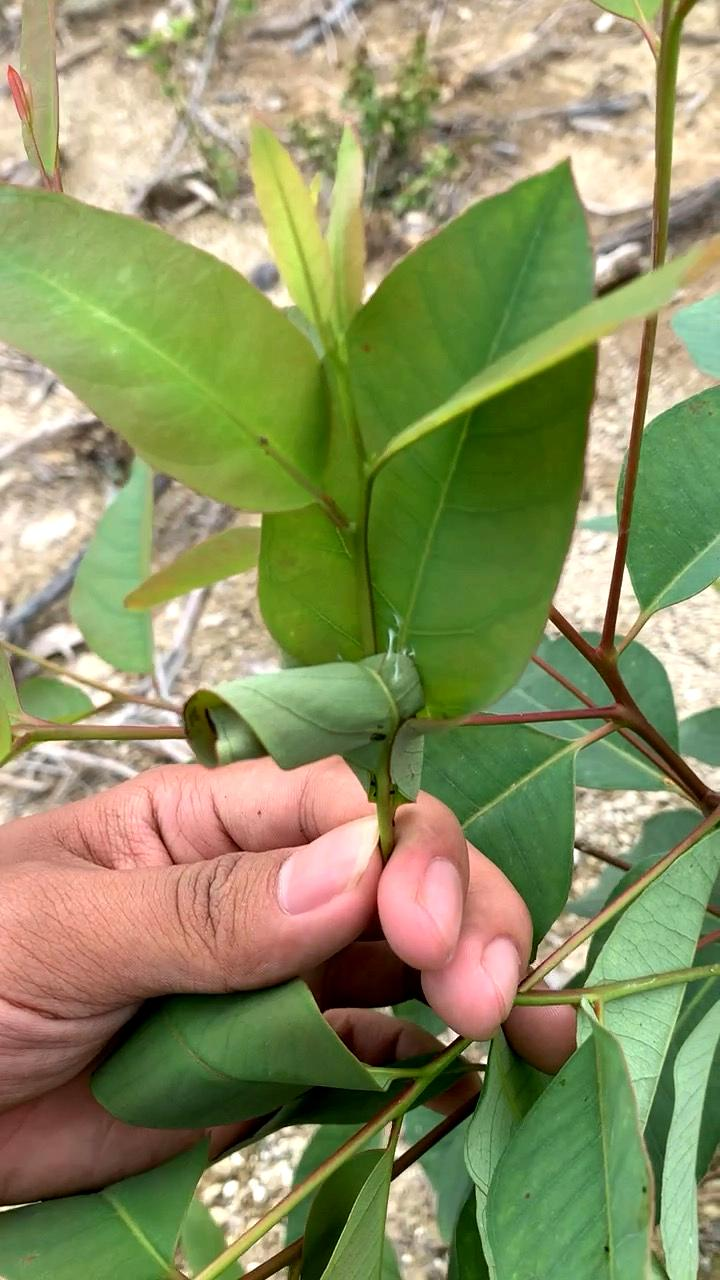Leaf Roller - Leaf: (149, 610, 483, 816)
